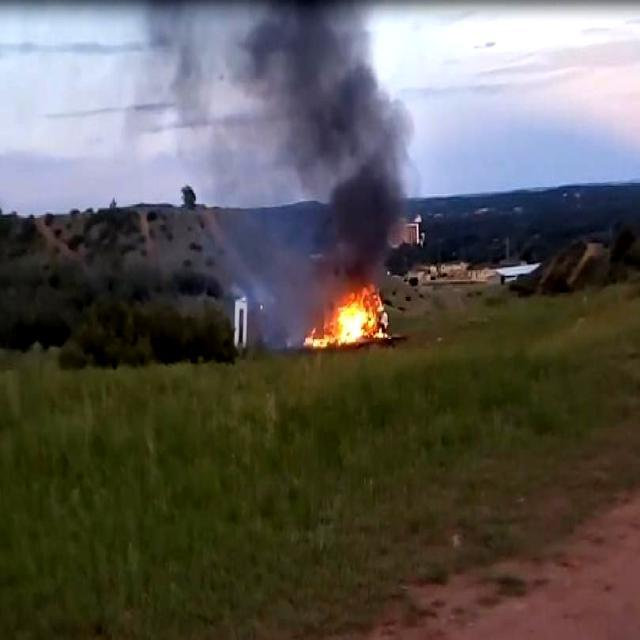Fire: (308, 281, 391, 352)
Smoke: (239, 0, 416, 258), (234, 266, 304, 350)
